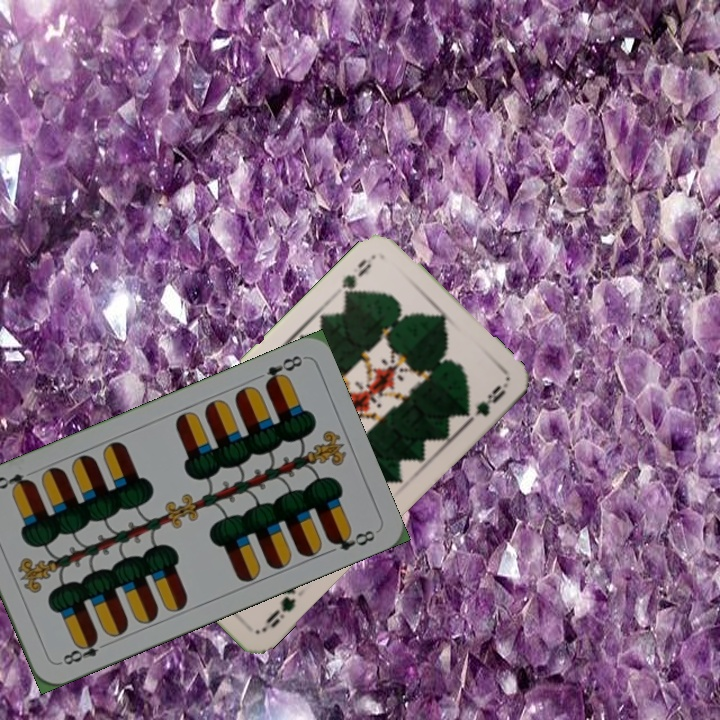E8: (55, 633, 112, 668), (261, 351, 305, 390)
G9: (337, 250, 379, 302), (259, 581, 299, 634)
